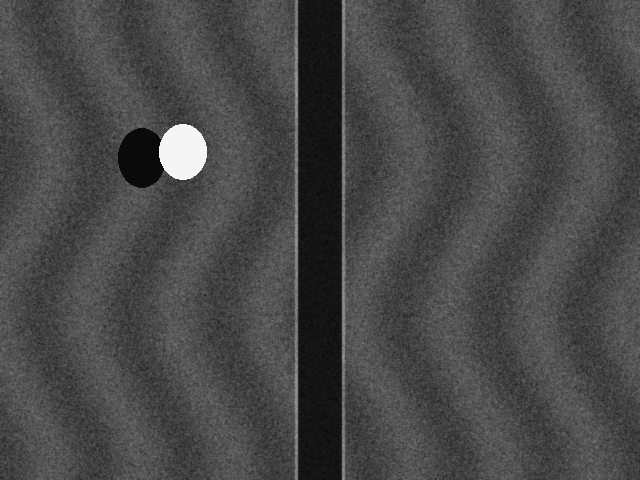Plastic Debris: (159, 124, 206, 179)
